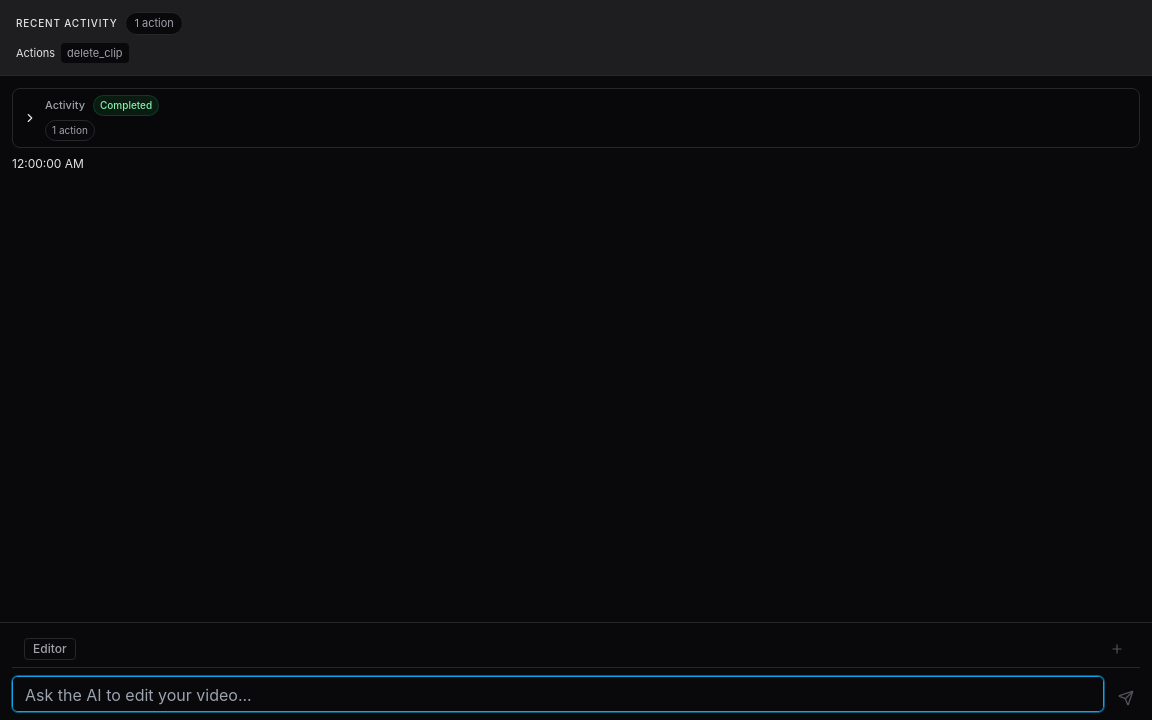
Test case: AgentRuntimeChatShell › clears artifact focus when the active conversation changes
Click the button with test id "artifact-tool-delete_clip": (95, 53) [61,42,128,63]
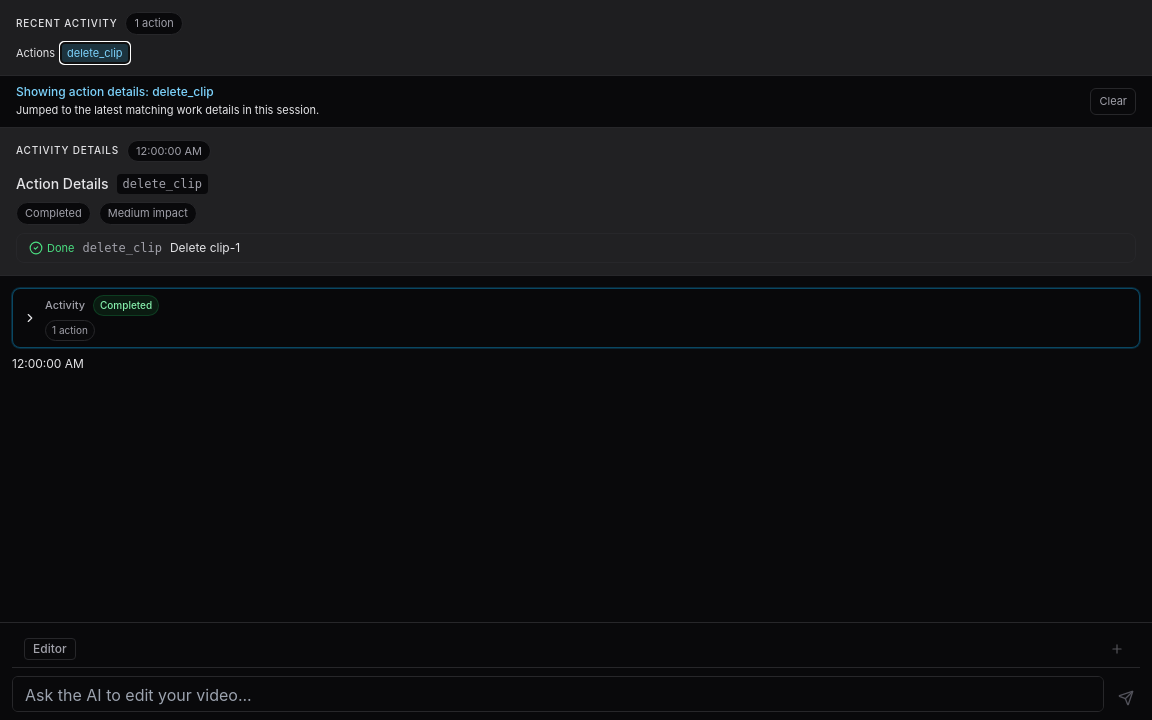
Check: the element with test id "agent-artifact-focus-banner" is shown, box [0,76,1151,128]
